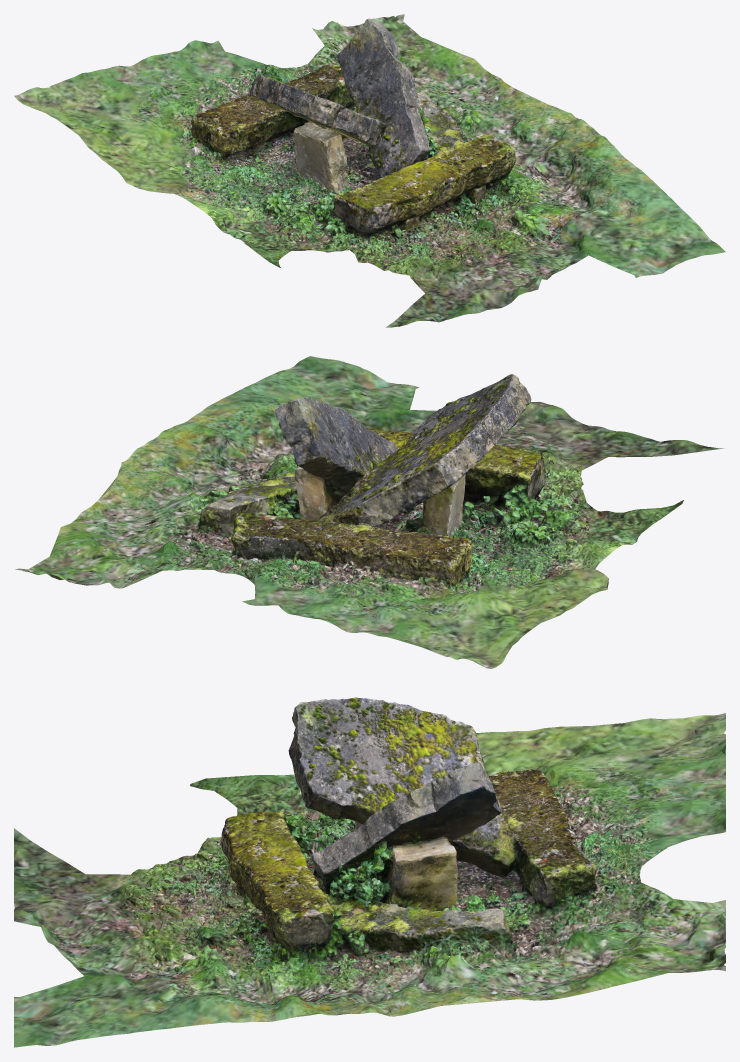
3 renders of one model, top to bottom at view 1: azimuth 30°, elevation 25°; view 2: azimuth 150°, elevation 25°; view 3: azimuth 270°, elevation 25°, orthographic. The views are drawn at different scales.
Bounding box in the file's own units: 4.53 × 1.48 × 5.14.
Materials: 1 (1 with a texture image).
